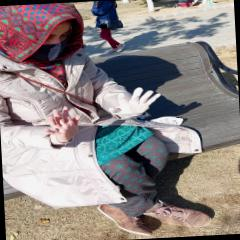gloved: (107, 88, 163, 118)
not-gloved: (42, 105, 82, 144)
